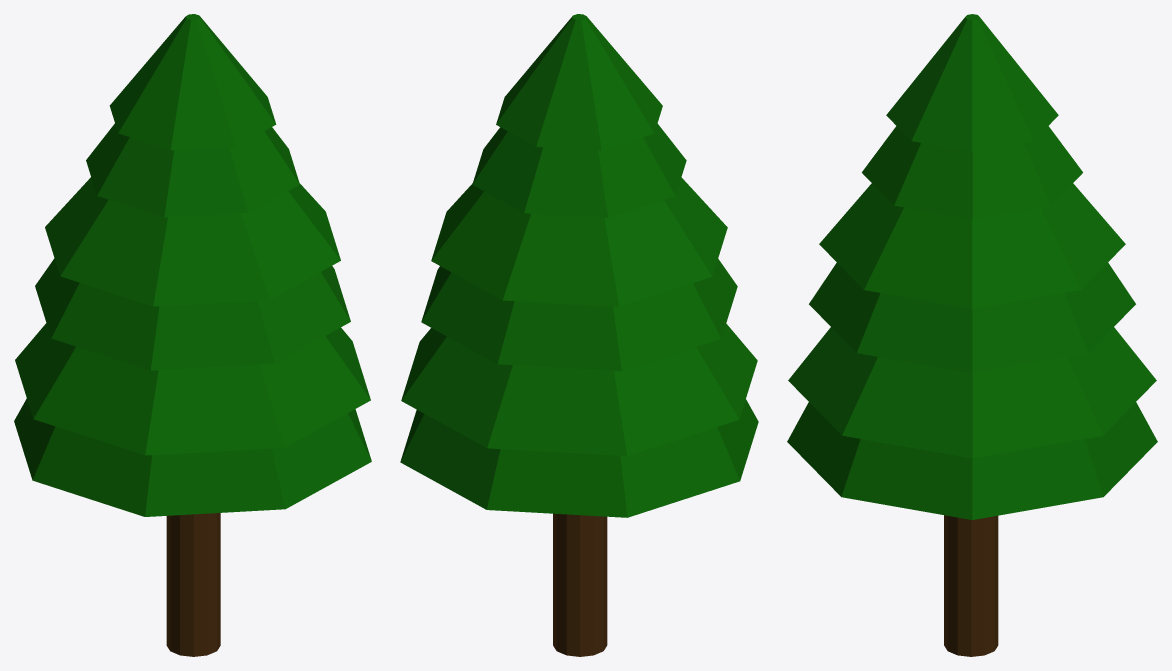
Rendered from Trees_Triangle.glb.
3 renders of one model, left to right at view 1: azimuth 30°, elevation 25°; view 2: azimuth 150°, elevation 25°; view 3: azimuth 270°, elevation 25°, orthographic.
Parts seen in each view (by area): view 1: Cylinder.001, Cylinder; view 2: Cylinder.001, Cylinder; view 3: Cylinder.001, Cylinder.
Boxes of the visible parts, <box> form: Cylinder.001: <box>14,14,371,516</box>; Cylinder: <box>166,513,220,656</box>; Cylinder.001: <box>400,14,758,517</box>; Cylinder: <box>553,513,607,656</box>; Cylinder.001: <box>787,14,1157,519</box>; Cylinder: <box>944,515,998,656</box>.
Size of the model in its own units: 5.18 by 9.69 by 5.18.
